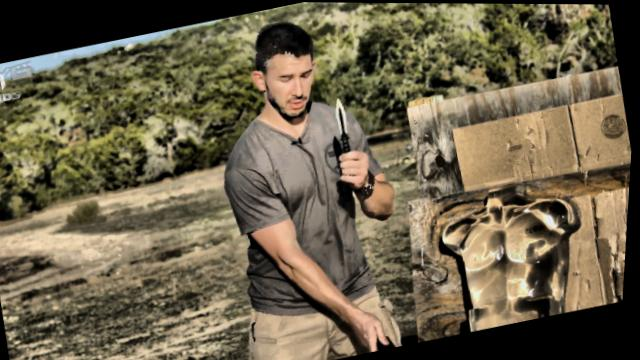knife: (321, 88, 379, 187)
